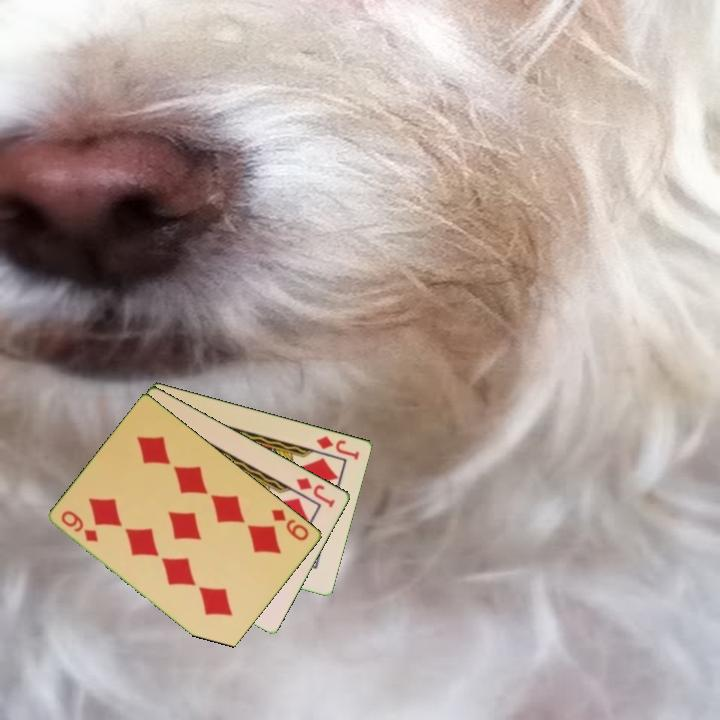9d: (268, 505, 312, 544), (58, 507, 101, 545)
Jd: (293, 474, 339, 510), (313, 432, 363, 462)
